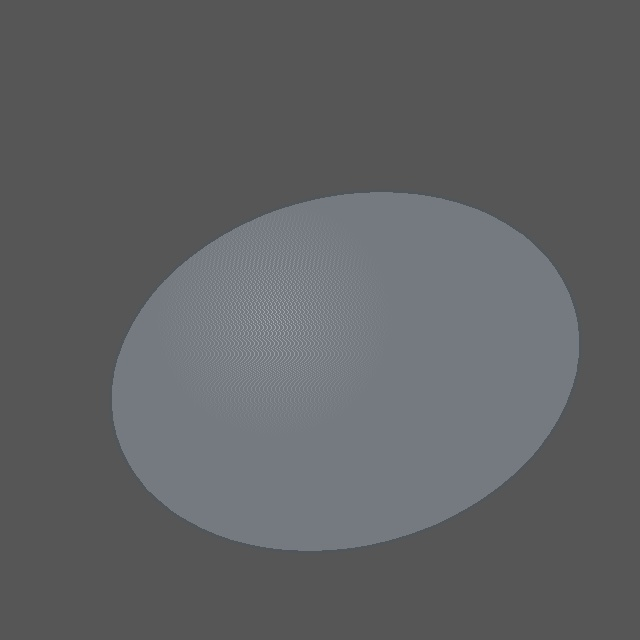lens: (110, 191, 580, 551)
